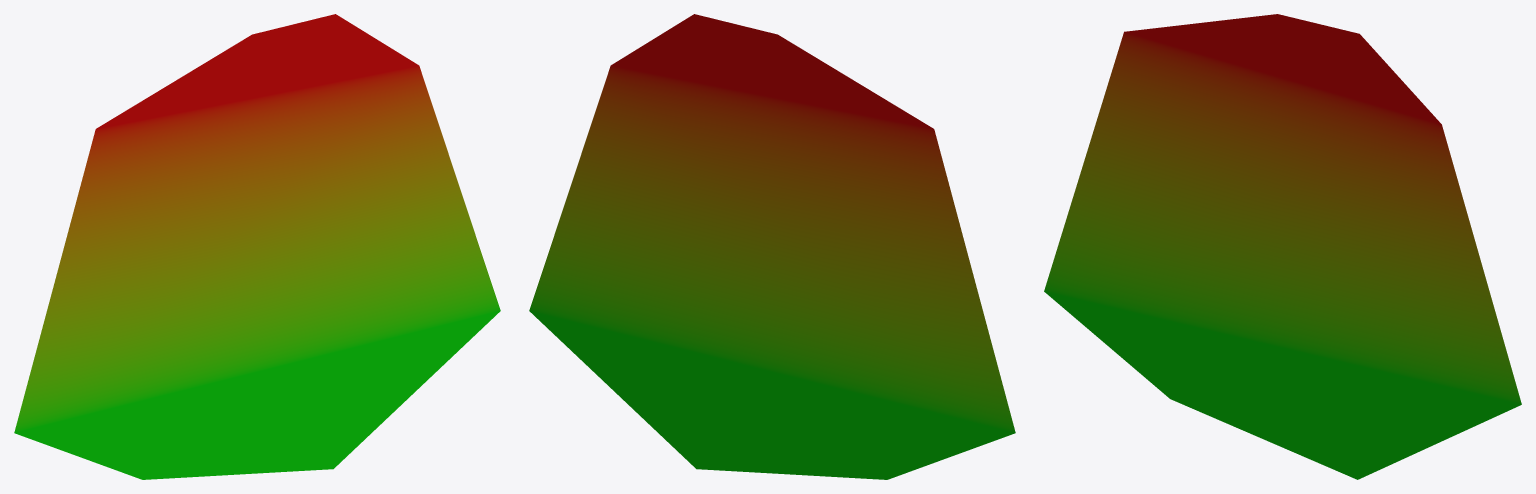
Rendered from Var1_LOD3.fbx.
The picture shows the model from 3 angles, left to right: view 1: azimuth 30°, elevation 25°; view 2: azimuth 150°, elevation 25°; view 3: azimuth 330°, elevation 25°; orthographic projection.
Parts seen in each view (by area): view 1: Var1_LOD3; view 2: Var1_LOD3; view 3: Var1_LOD3.
Part boxes in pixels (left/top/right/bottom): Var1_LOD3: left=14, top=14, right=500, bottom=479; Var1_LOD3: left=529, top=14, right=1015, bottom=479; Var1_LOD3: left=1044, top=14, right=1521, bottom=479.
Size of the model in its own units: 76.41 by 68.23 by 3.03e-05.
